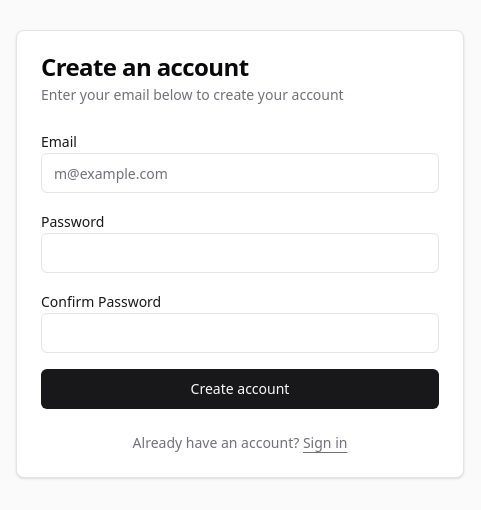
Test: Signup page › password mismatch shows validation error
Type "test@example.com" into the field with id "email" at (240, 173), box [41,153,439,193]
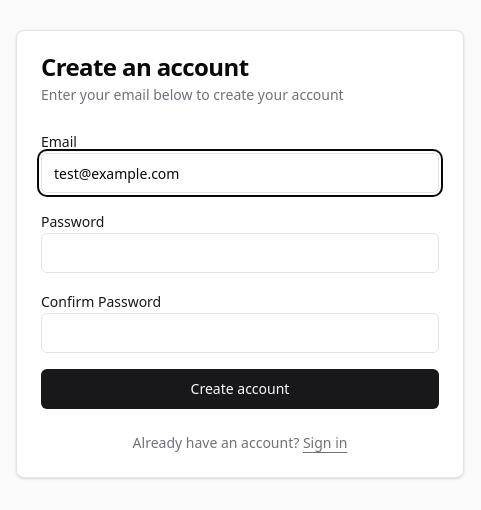
Type "password123" into the password field labelled "Password" at (240, 253), box [41,233,439,273]
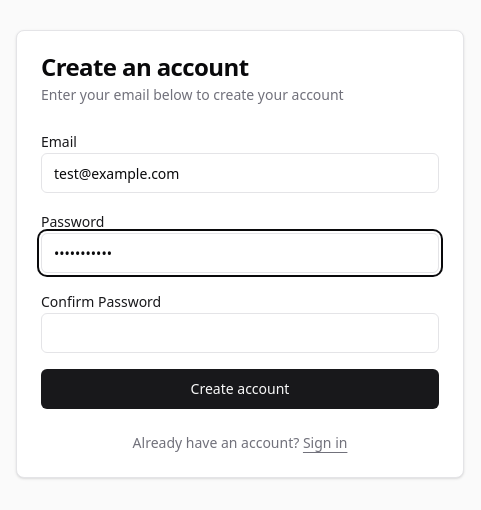
Type "different456" into the password field with id "confirmPassword" at (240, 333), box [41,313,439,353]
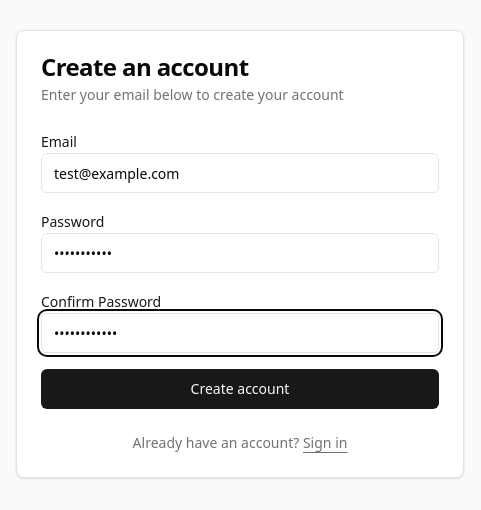
Click the button "Create account" at (240, 389), box [41,369,439,409]
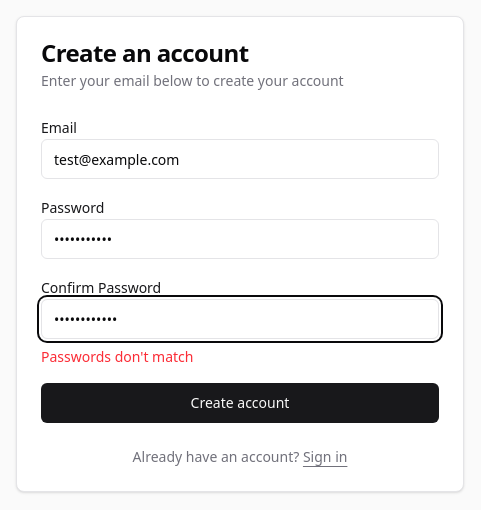
expect the text "Passwords don't match" is shown: met, box [41,347,194,366]
